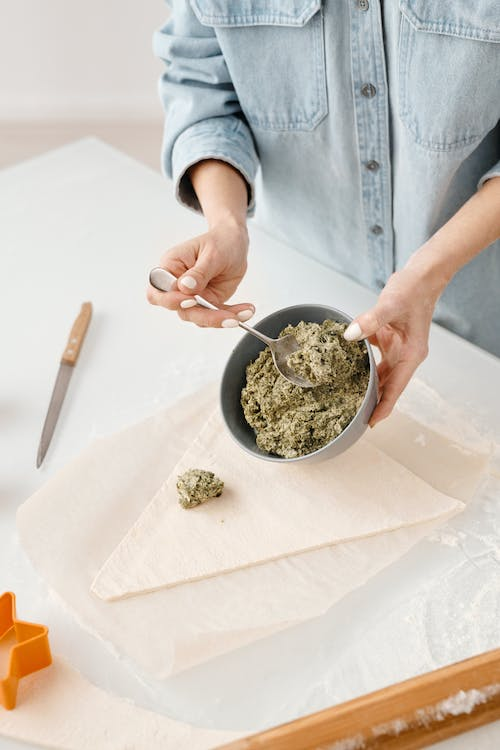knife: (33, 298, 93, 469)
